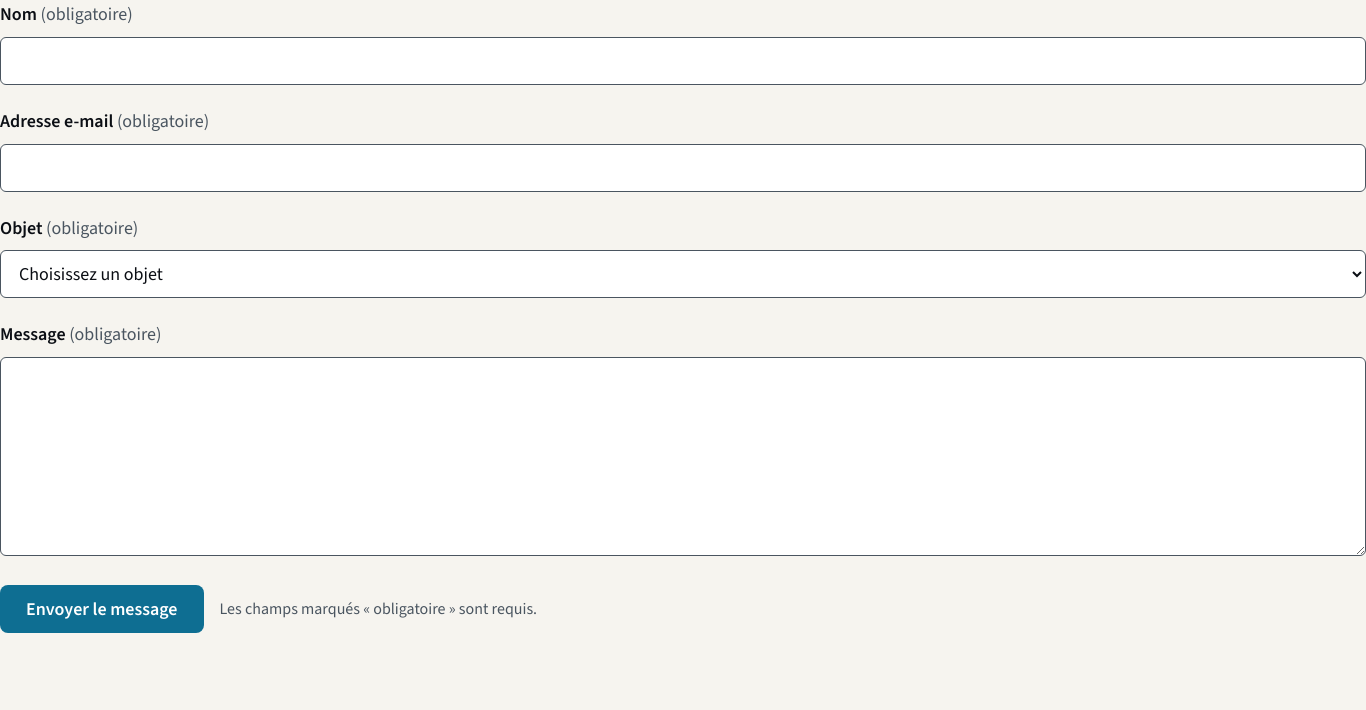
Test: ContactForm › should repeat the errors in a polite live region, one link per field
Click the button "Envoyer le message" at (102, 609), box [0,585,204,633]
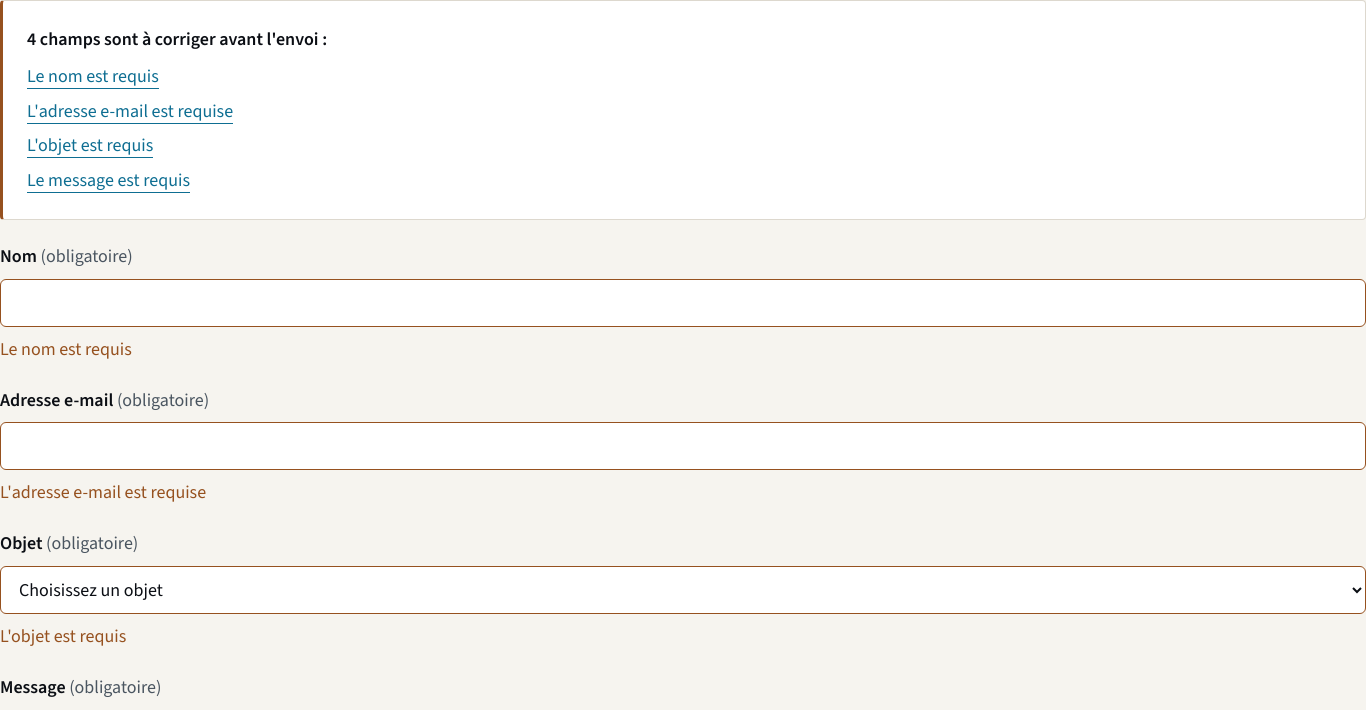
Now the element that starts with "4 champs sont à corriger avant l'envoi :" is shown, box [0,0,1365,220]
